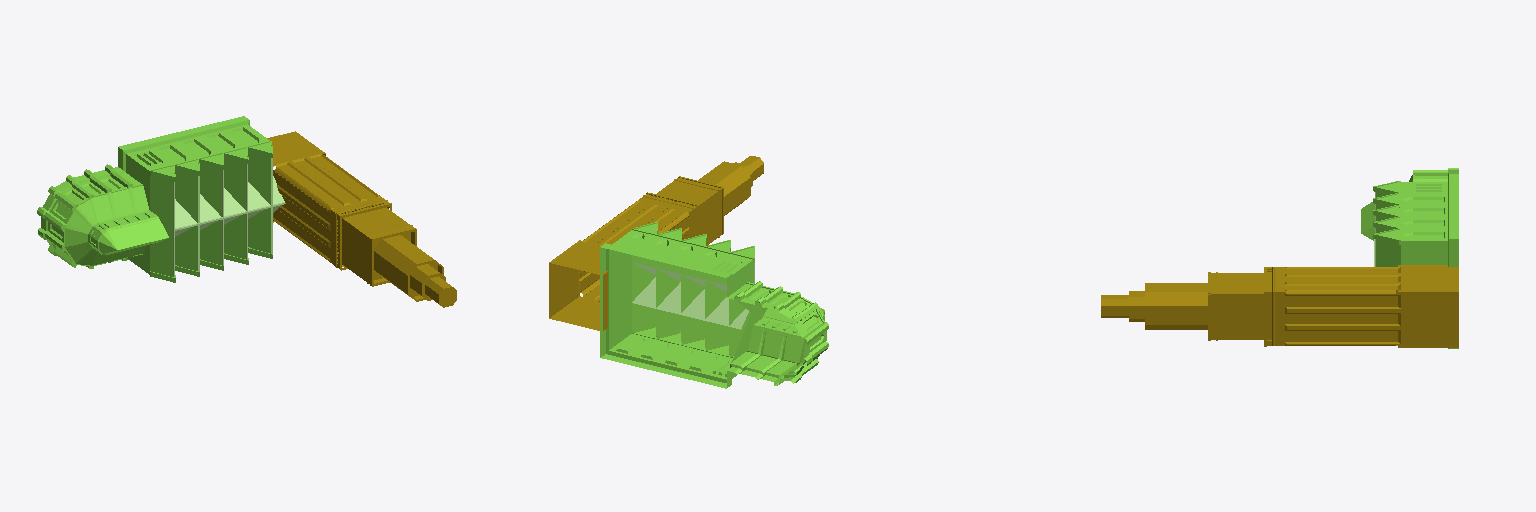
The model's file is martini_tower.obj.
The picture shows the model from 3 angles: view 1: azimuth 30°, elevation 25°; view 2: azimuth 150°, elevation 25°; view 3: azimuth 270°, elevation 25°; orthographic projection.
Visible parts, largest first — view 1: Box002, Box004, Box003; view 2: Box002, Box004, Box003; view 3: Box004, Box002.
Part boxes in pixels (x1,y1,x2,y2): Box002: (37, 116, 272, 282); Box004: (267, 131, 456, 307); Box003: (173, 158, 285, 277); Box002: (600, 222, 828, 388); Box004: (549, 156, 763, 331); Box003: (632, 262, 754, 331); Box004: (1101, 265, 1458, 347); Box002: (1361, 168, 1458, 348).
Bounding box in the file's own units: 2999 × 1228 × 3608.